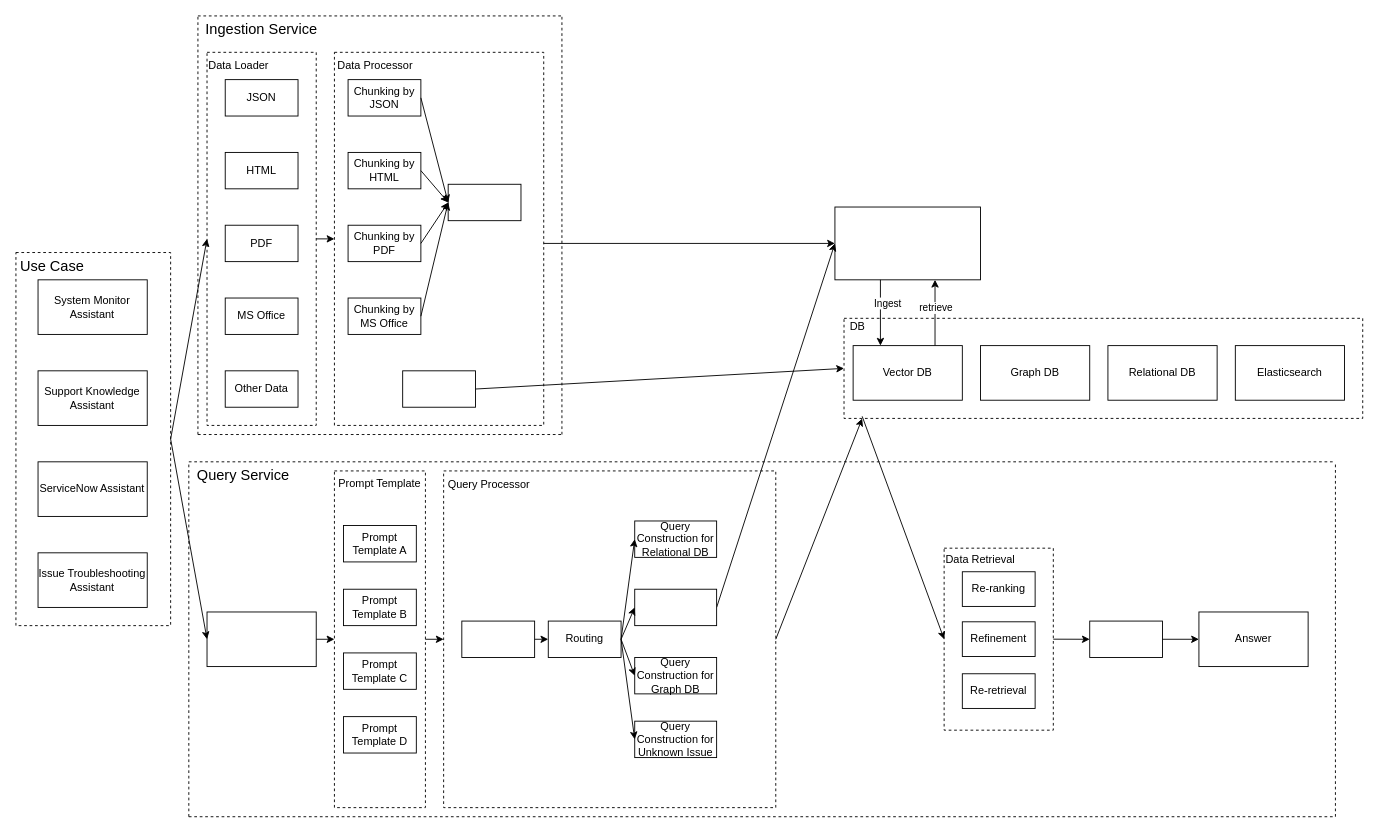
Image size: 1379x834. Some labels were removed from this diagram. The shapes that lost their labels are listed below. From the top down, each one's box as (x1, y1, x2, y2) in pixels, then its label:
(447, 183, 521, 221): Multi-representation Indexing
(834, 206, 981, 280): dRAGon
(402, 370, 475, 407): Other Process
(634, 588, 717, 626): Query Construction for Vector DB
(206, 611, 316, 667): User Query
(461, 620, 535, 657): Query Translation
(1089, 620, 1163, 657): Generation
